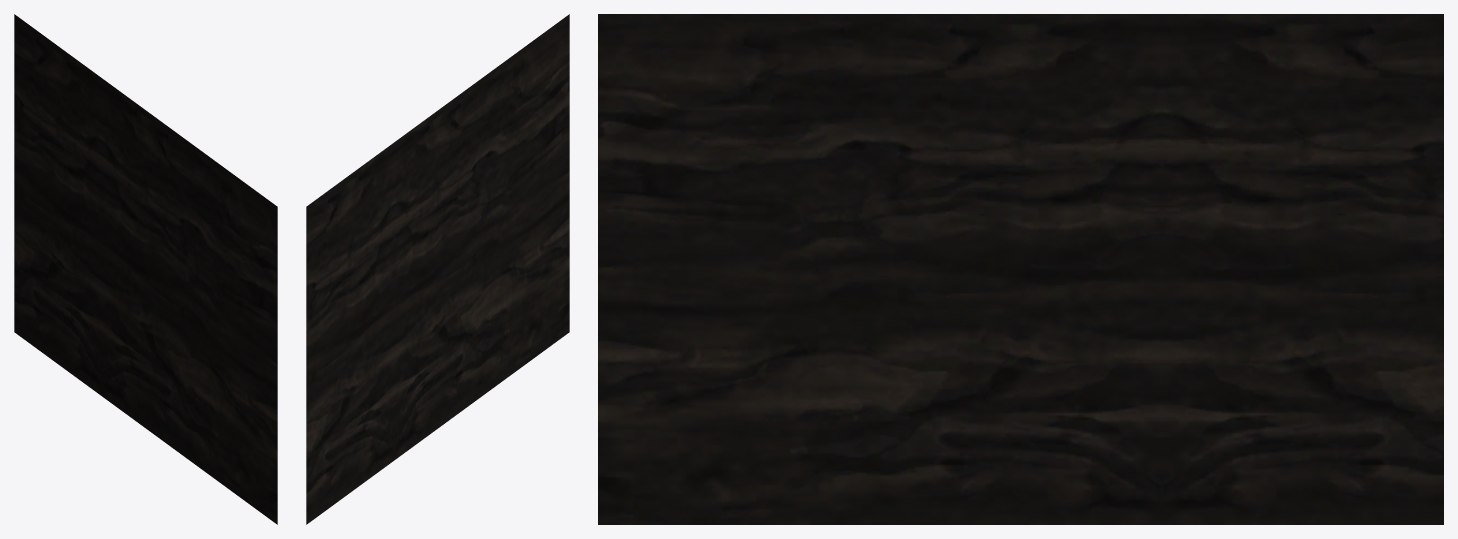
File: dirt.glb
3 views of the same model, side by side, from view 1: azimuth 30°, elevation 25°; view 2: azimuth 150°, elevation 25°; view 3: azimuth 270°, elevation 25° (orthographic). The views are drawn at different scales.
Visible parts, largest first — view 1: Default; view 2: Default; view 3: Default.
Boxes of the visible parts, x1,y1,x2,y2 form: Default: (14, 14, 277, 524); Default: (306, 14, 569, 524); Default: (598, 14, 1443, 524).
Bounding box in the file's own units: 0 × 2 × 3.
1 material, 1 textured.
